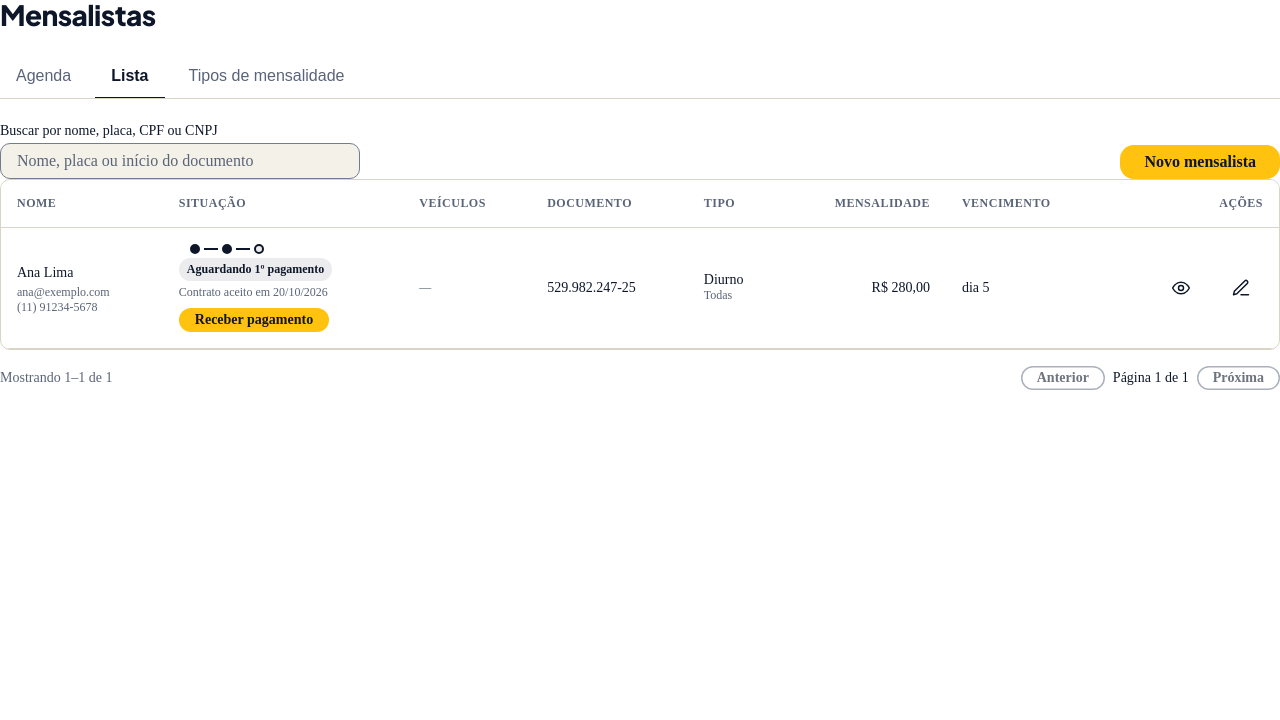
Test case: MensalistasPage: pagamento › da lista ao comprovante: recebe, mostra o resultado, e a lista já mostra o mensalista ativo
The image size is (1280, 720).
Click the button with aria-label "Receber pagamento de Ana Lima" at point(254, 320), box [179,308,329,332]
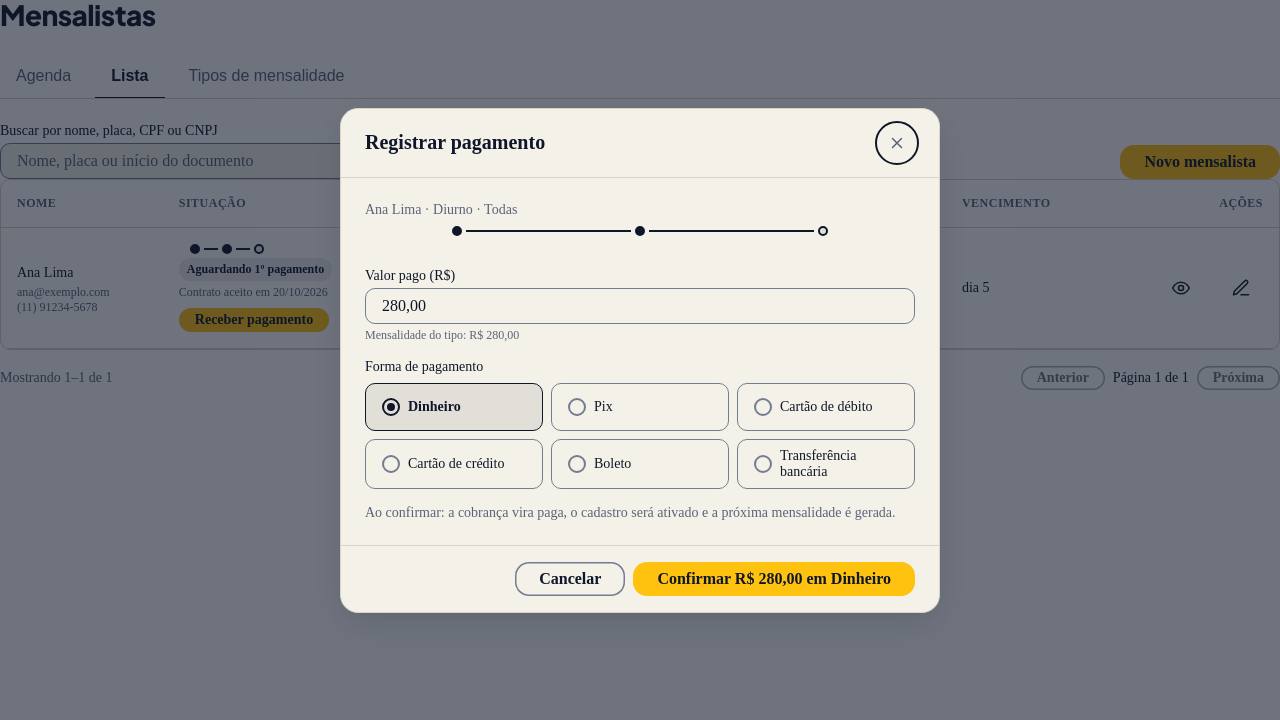
Expected: the text "o cadastro será ativado" is shown, [365,504,896,520]
Click the radio button labelled "Pix" at point(640, 406), box [551,382,729,430]
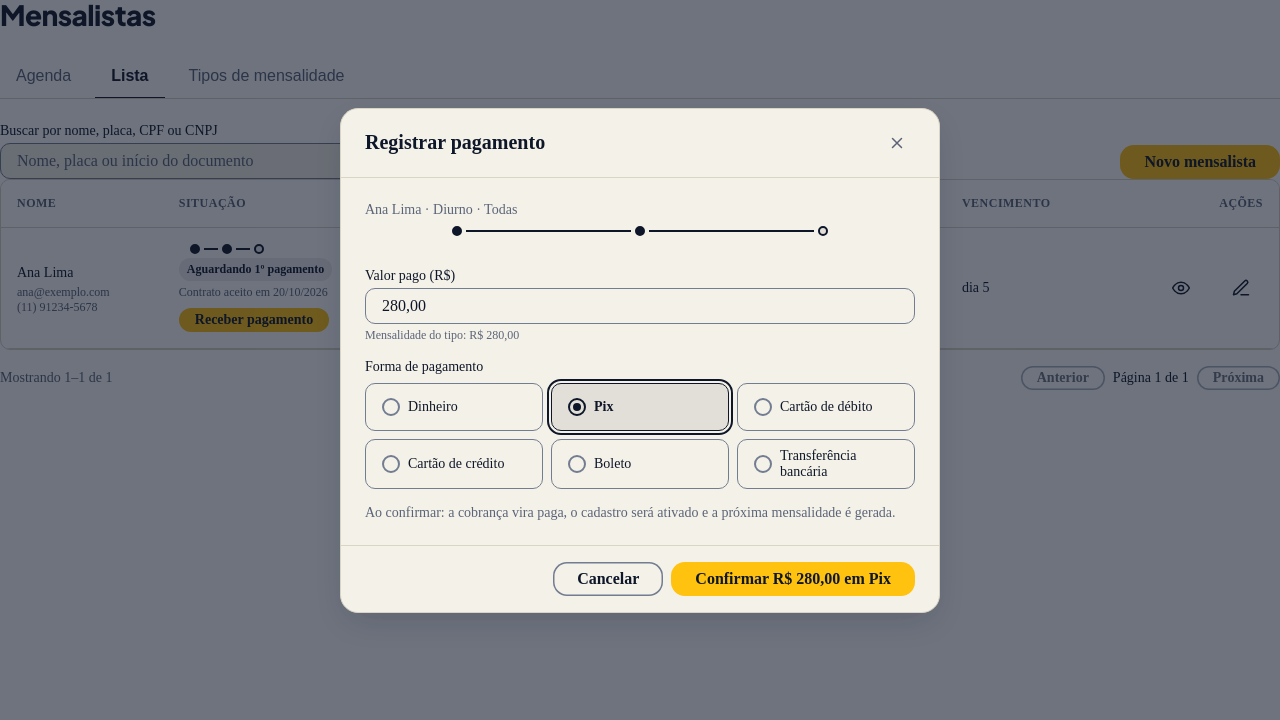
Click the button "Confirmar R$ 280,00 em Pix" at point(793, 578), box [671,562,915,596]
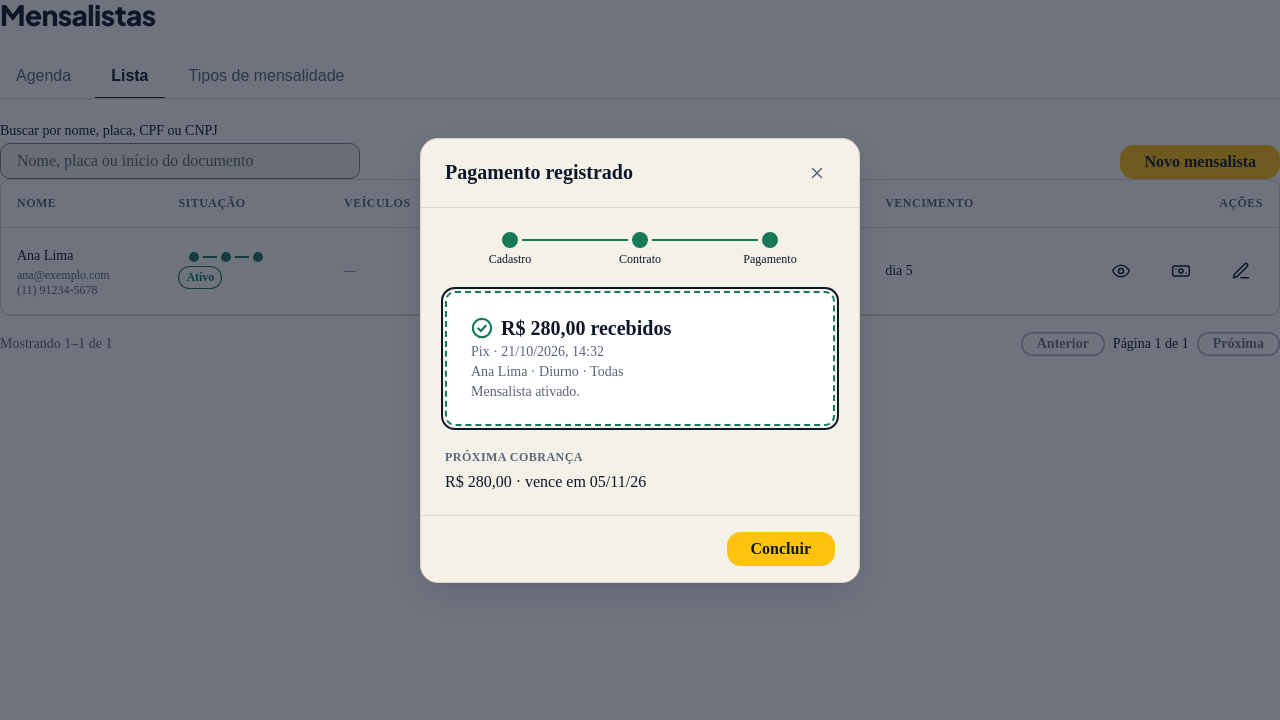
Expected: the text "R$ 280,00 · vence em 05/11/26" is shown, [445,472,646,490]
Click the button "Concluir" at point(781, 548), box [726,532,835,566]
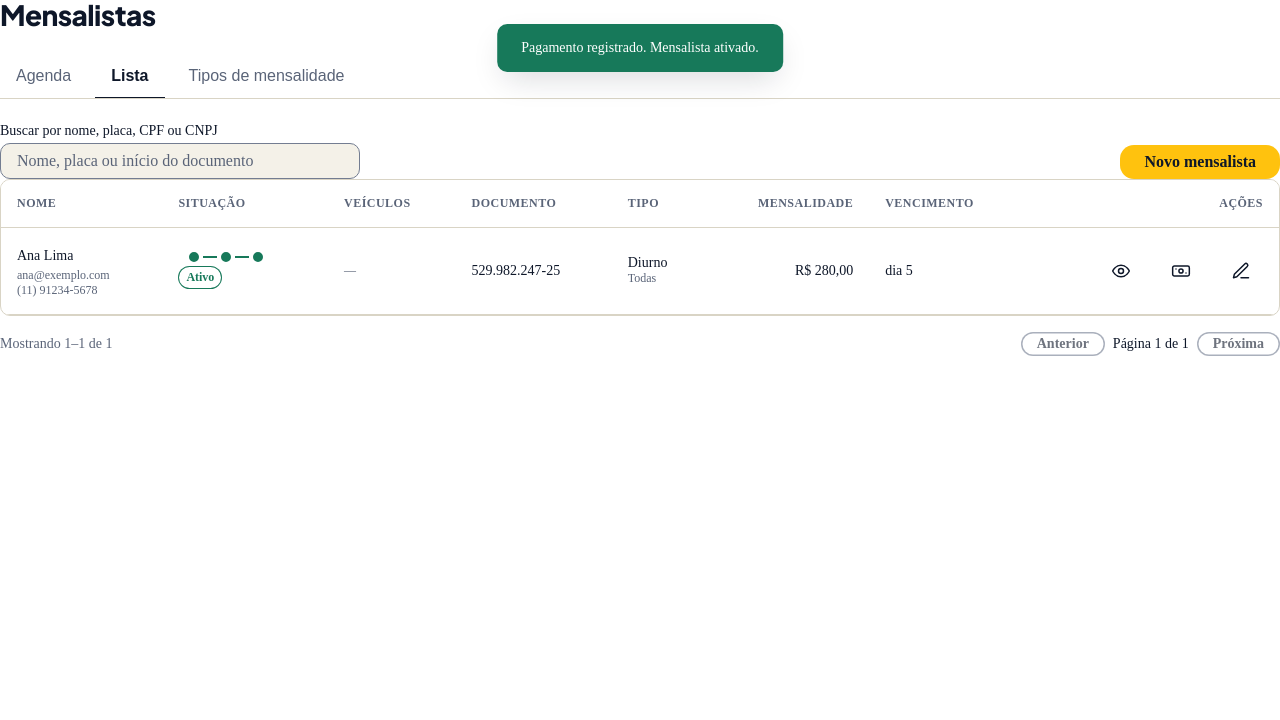
Expected: the text "Ativo" is shown, [178,266,222,289]
Expected: the text "Pagamento registrado. Mensalista ativado." is shown, [497,24,783,72]
Expected: the dialog is gone
